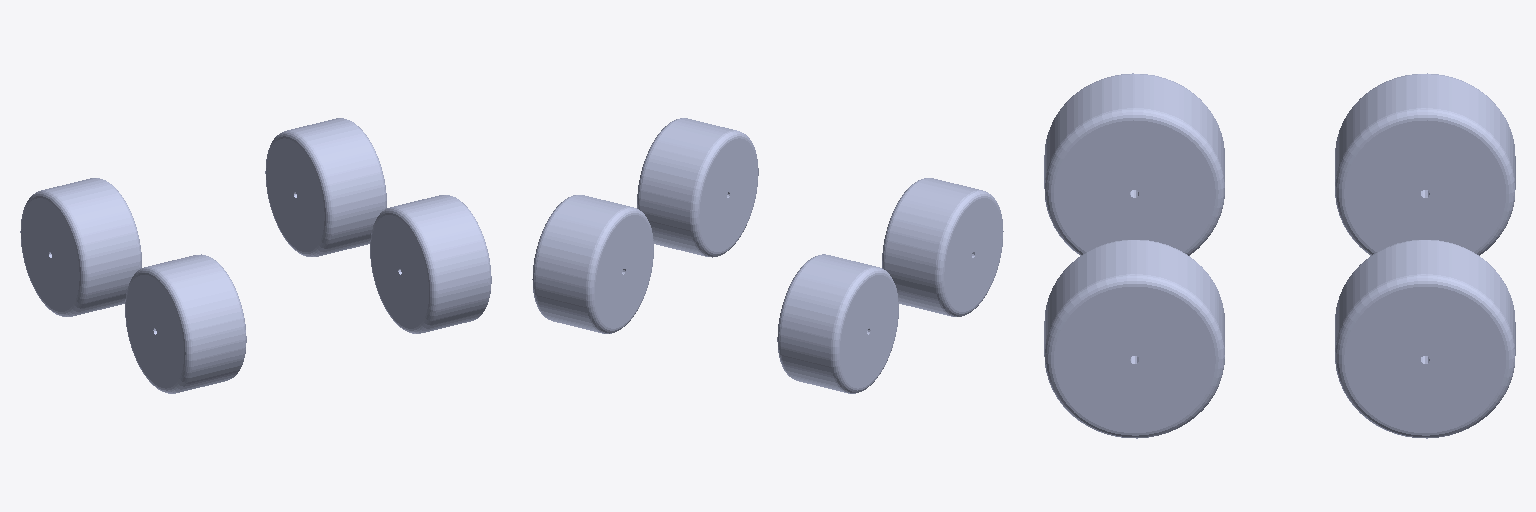
URDF robot description (modelo_urdf7):
<?xml version="1.0" encoding="utf-8"?>
<!-- This URDF was automatically created by SolidWorks to URDF Exporter! Originally created by [author] ([email redacted]) 
     Commit Version: 1.6.0-4-g7f85cfe  Build Version: 1.6.7995.38578
     For more information, please see http://wiki.ros.org/sw_urdf_exporter -->
<robot
  name="modelo_urdf7">
  <link
    name="BASE">
    <inertial>
      <origin
        xyz="0.000338255879255235 0.0612529314979907 -0.0108391359392291"
        rpy="0 0 0" />
      <mass
        value="2.73129560782572" />
      <inertia
        ixx="0.00684771592977348"
        ixy="-8.1688898976531E-06"
        ixz="5.22648674986173E-07"
        iyy="0.00971289587185003"
        iyz="1.41162422613265E-05"
        izz="0.00619216854900505" />
    </inertial>
    <visual>
      <origin
        xyz="0 0 0"
        rpy="0 0 0" />
      <geometry>
        <mesh
          filename="package://modelo_urdf7/meshes/BASE.STL" />
      </geometry>
      <material
        name="">
        <color
          rgba="0.792156862745098 0.819607843137255 0.933333333333333 1" />
      </material>
    </visual>
    <collision>
      <origin
        xyz="0 0 0"
        rpy="0 0 0" />
      <geometry>
        <mesh
          filename="package://modelo_urdf7/meshes/BASE.STL" />
      </geometry>
    </collision>
  </link>
  <link
    name="Llanta1">
    <inertial>
      <origin
        xyz="-0.0265000000000004 5.68989300120393E-16 4.16333634234434E-17"
        rpy="0 0 0" />
      <mass
        value="0.387424814717317" />
      <inertia
        ixx="0.000453457248908455"
        ixy="-1.33241150708585E-19"
        ixz="-4.51523274027657E-19"
        iyy="0.000316106792470943"
        iyz="6.7762635780344E-21"
        izz="0.000316106792470943" />
    </inertial>
    <visual>
      <origin
        xyz="0 0 0"
        rpy="0 0 0" />
      <geometry>
        <mesh
          filename="package://modelo_urdf7/meshes/Llanta1.STL" />
      </geometry>
      <material
        name="">
        <color
          rgba="0.792156862745098 0.819607843137255 0.933333333333333 1" />
      </material>
    </visual>
    <collision>
      <origin
        xyz="0 0 0"
        rpy="0 0 0" />
      <geometry>
        <mesh
          filename="package://modelo_urdf7/meshes/Llanta1.STL" />
      </geometry>
    </collision>
  </link>
  <joint
    name="LL1"
    type="continuous">
    <origin
      xyz="-0.079 -0.078 0.018"
      rpy="-2.8838 0 0" />
    <parent
      link="BASE" />
    <child
      link="Llanta1" />
    <axis
      xyz="1 0 0" />
  </joint>
  <link
    name="Llanta2">
    <inertial>
      <origin
        xyz="0.0264999999999999 -3.19189119579733E-16 1.38777878078145E-16"
        rpy="0 0 0" />
      <mass
        value="0.387424814717318" />
      <inertia
        ixx="0.000453457248908455"
        ixy="1.10202595389589E-36"
        ixz="-5.98569949393038E-21"
        iyy="0.000316106792470943"
        iyz="6.87141502616335E-37"
        izz="0.000316106792470943" />
    </inertial>
    <visual>
      <origin
        xyz="0 0 0"
        rpy="0 0 0" />
      <geometry>
        <mesh
          filename="package://modelo_urdf7/meshes/Llanta2.STL" />
      </geometry>
      <material
        name="">
        <color
          rgba="0.792156862745098 0.819607843137255 0.933333333333333 1" />
      </material>
    </visual>
    <collision>
      <origin
        xyz="0 0 0"
        rpy="0 0 0" />
      <geometry>
        <mesh
          filename="package://modelo_urdf7/meshes/Llanta2.STL" />
      </geometry>
    </collision>
  </link>
  <joint
    name="LL2"
    type="continuous">
    <origin
      xyz="0.079 -0.078 0.018"
      rpy="1.5708 0 0" />
    <parent
      link="BASE" />
    <child
      link="Llanta2" />
    <axis
      xyz="1 0 0" />
  </joint>
  <link
    name="Llanta3">
    <inertial>
      <origin
        xyz="0.0264999999999999 8.32667268468867E-16 1.38777878078145E-16"
        rpy="0 0 0" />
      <mass
        value="0.387424814717318" />
      <inertia
        ixx="0.000453457248908455"
        ixy="-3.67341984631962E-37"
        ixz="-8.77600311083533E-37"
        iyy="0.000316106792470943"
        iyz="-4.29472680748581E-38"
        izz="0.000316106792470943" />
    </inertial>
    <visual>
      <origin
        xyz="0 0 0"
        rpy="0 0 0" />
      <geometry>
        <mesh
          filename="package://modelo_urdf7/meshes/Llanta3.STL" />
      </geometry>
      <material
        name="">
        <color
          rgba="0.792156862745098 0.819607843137255 0.933333333333333 1" />
      </material>
    </visual>
    <collision>
      <origin
        xyz="0 0 0"
        rpy="0 0 0" />
      <geometry>
        <mesh
          filename="package://modelo_urdf7/meshes/Llanta3.STL" />
      </geometry>
    </collision>
  </link>
  <joint
    name="LL3"
    type="continuous">
    <origin
      xyz="0.079 0.078 0.018"
      rpy="1.5708 0 0" />
    <parent
      link="BASE" />
    <child
      link="Llanta3" />
    <axis
      xyz="1 0 0" />
  </joint>
  <link
    name="Llanta4">
    <inertial>
      <origin
        xyz="-0.0265000000000001 -3.85108611666851E-16 -1.66533453693773E-16"
        rpy="0 0 0" />
      <mass
        value="0.387424814717317" />
      <inertia
        ixx="0.000453457248908454"
        ixy="-7.3468396926393E-37"
        ixz="-9.29362638007222E-37"
        iyy="0.000316106792470943"
        iyz="-1.60864717645473E-36"
        izz="0.000316106792470943" />
    </inertial>
    <visual>
      <origin
        xyz="0 0 0"
        rpy="0 0 0" />
      <geometry>
        <mesh
          filename="package://modelo_urdf7/meshes/Llanta4.STL" />
      </geometry>
      <material
        name="">
        <color
          rgba="0.792156862745098 0.819607843137255 0.933333333333333 1" />
      </material>
    </visual>
    <collision>
      <origin
        xyz="0 0 0"
        rpy="0 0 0" />
      <geometry>
        <mesh
          filename="package://modelo_urdf7/meshes/Llanta4.STL" />
      </geometry>
    </collision>
  </link>
  <joint
    name="LL4"
    type="continuous">
    <origin
      xyz="-0.079 0.078 0.018"
      rpy="1.5708 0 0" />
    <parent
      link="BASE" />
    <child
      link="Llanta4" />
    <axis
      xyz="1 0 0" />
  </joint>

   <gazebo reference="imu_link">
    <gravity>true</gravity>
    <sensor name="imu_sensor" type="imu">
      <always_on>true</always_on>
      <update_rate>100</update_rate>
      <visualize>true</visualize>
      <topic>_default_topic_</topic>
      <plugin filename="libgazebo_ros_imu_sensor.so" name="imu_plugin">
        <topicName>imu</topicName>
        <bodyName>imu_link</bodyName>
        <updateRateHZ>10.0</updateRateHZ>
        <gaussianNoise>0.0</gaussianNoise>
        <xyzOffset>0 0 0</xyzOffset>
        <rpyOffset>0 0 0</rpyOffset>
        <frameName>imu_link</frameName>
        <initialOrientationAsReference>false</initialOrientationAsReference>
      </plugin>
      <pose>0 0 0 0 0 0</pose>
    </sensor>
  </gazebo>

   <gazebo>
    <plugin name="imu_plugin" filename="libgazebo_ros_imu.so">
      <alwaysOn>true</alwaysOn>
      <bodyName>BASE</bodyName>
      <topicName>imu</topicName>
      <serviceName>imu_service</serviceName>
      <gaussianNoise>0.0</gaussianNoise>
      <updateRate>20.0</updateRate>
    </plugin>
  </gazebo>
  
</robot>

--- What the picture shows (computed from the rendered views, not written in the file) ---
Views: 3 orthographic renders of the robot side by side, from view 1: azimuth 30°, elevation 25°; view 2: azimuth 150°, elevation 25°; view 3: azimuth 270°, elevation 25°.
Model modelo_urdf7 with 5 links and 4 joints (4 continuous), rooted at BASE, posed every joint at zero.
Links seen in each view (by area): view 1: Llanta1, Llanta2, Llanta3, Llanta4; view 2: Llanta4, Llanta3, Llanta2, Llanta1; view 3: Llanta2, Llanta3, Llanta1, Llanta4.
Boxes of the visible links, x1=… form: Llanta1: x1=125, y1=254, x2=246, y2=393; Llanta2: x1=370, y1=195, x2=491, y2=333; Llanta3: x1=265, y1=118, x2=386, y2=256; Llanta4: x1=20, y1=178, x2=141, y2=316; Llanta4: x1=777, y1=254, x2=898, y2=393; Llanta3: x1=532, y1=195, x2=653, y2=333; Llanta2: x1=637, y1=118, x2=758, y2=257; Llanta1: x1=882, y1=178, x2=1003, y2=316; Llanta2: x1=1044, y1=240, x2=1224, y2=438; Llanta3: x1=1335, y1=240, x2=1515, y2=438; Llanta1: x1=1044, y1=73, x2=1224, y2=255; Llanta4: x1=1335, y1=73, x2=1515, y2=255.
Bounding box of the posed robot: 0.264 × 0.253 × 0.097 m (x, y, z).
Meshes: 5 distinct files referenced, 4 mesh visuals loaded (4 binary STL); not drawn: 1 (reference not matched to a file when rendering).